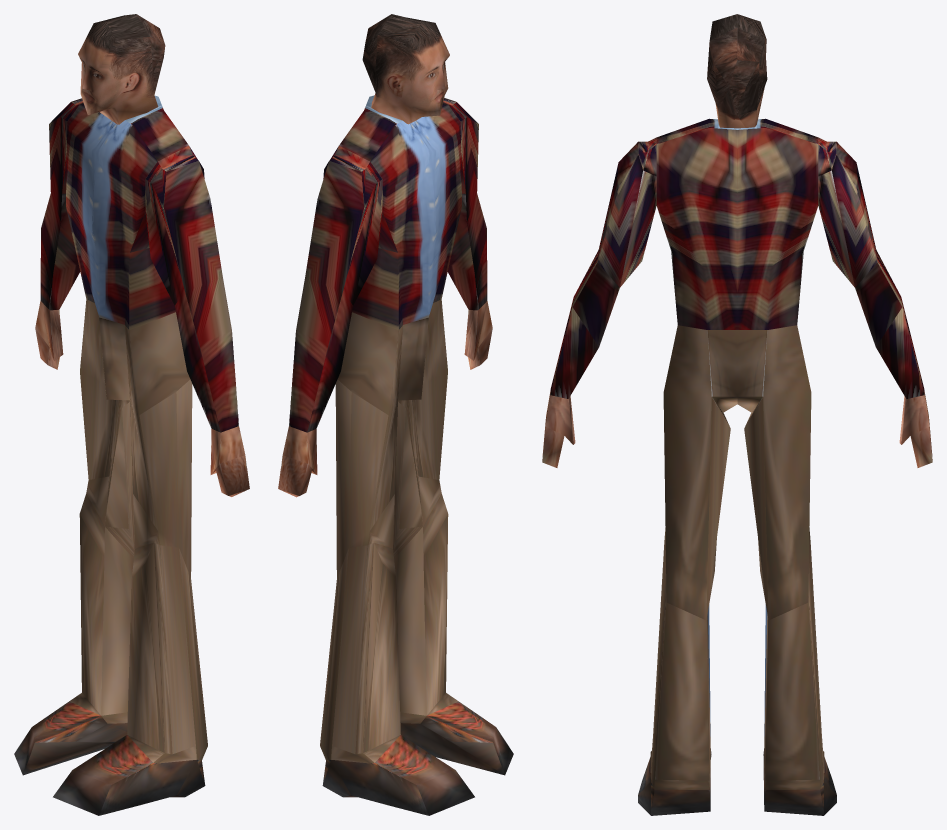
File: PsxMan.fbx
3 renders of one model, left to right at view 1: azimuth 30°, elevation 25°; view 2: azimuth 150°, elevation 25°; view 3: azimuth 270°, elevation 25°, orthographic. The views are drawn at different scales.
Visible parts, largest first — view 1: Body, Face; view 2: Body, Face; view 3: Body, Face.
Part boxes in pixels (left/top/right/bottom): Body: left=14, top=95, right=249, bottom=815; Face: left=78, top=14, right=165, bottom=124; Body: left=278, top=95, right=513, bottom=815; Face: left=362, top=14, right=449, bottom=124; Body: left=542, top=118, right=932, bottom=815; Face: left=707, top=14, right=767, bottom=128.
Bounding box in the file's own units: 56.48 × 303 × 138.
2 materials, 2 textured.
